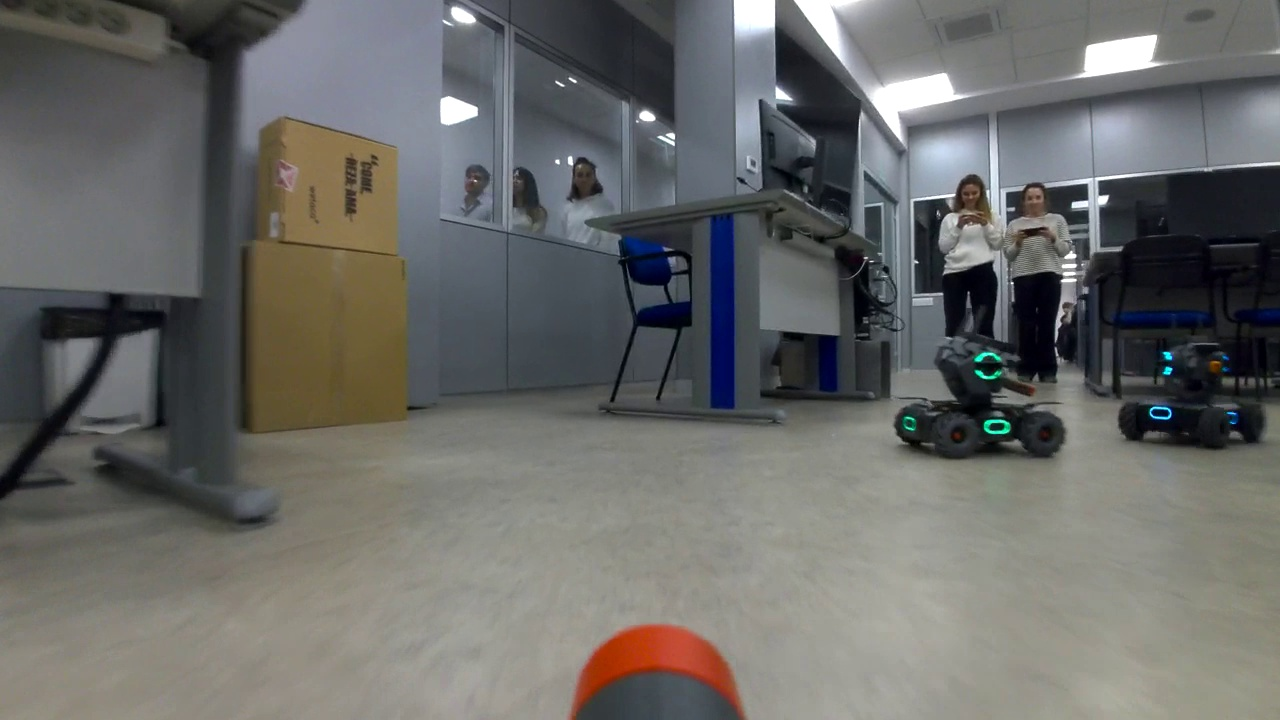robot: (893, 333, 1066, 460), (1117, 338, 1268, 451)
